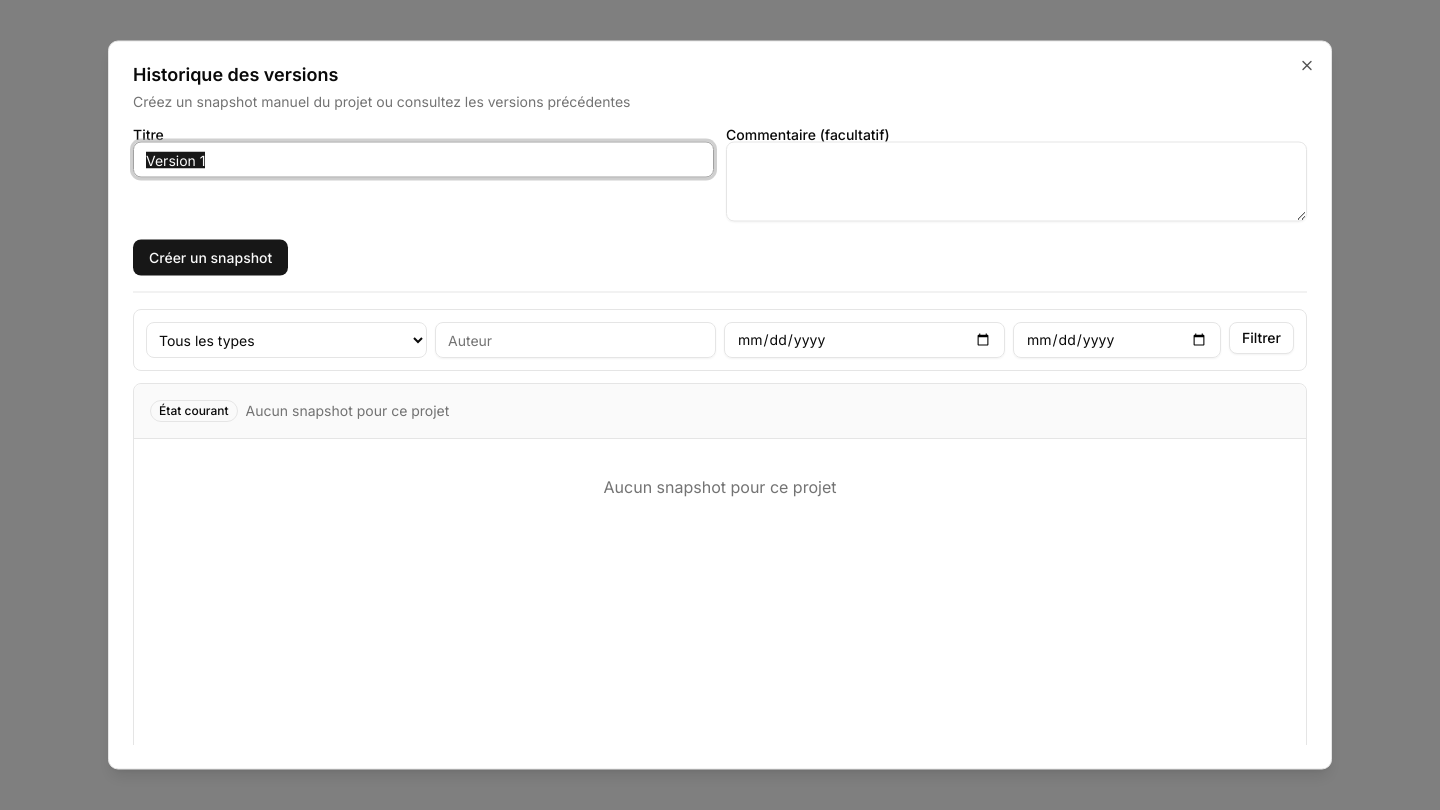
Test: SnapshotHistoryDialog › shows a clear error and does not add a snapshot when the store reports failure
Click the button "Créer un snapshot". click: (211, 258)
box: [133,240,288,276]
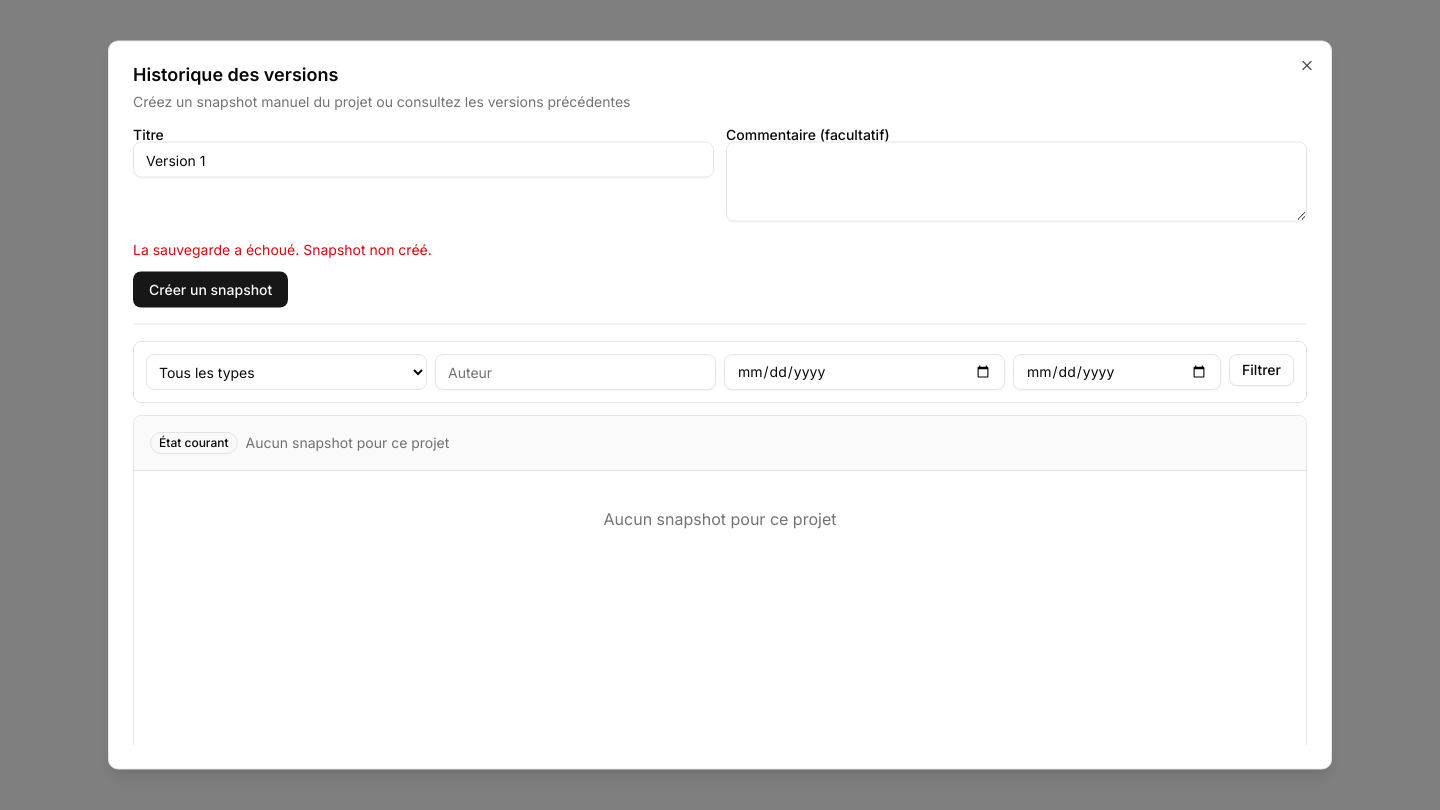
expect the text "La sauvegarde a échoué. Snapshot non créé." is shown: met, box [133,240,432,258]
